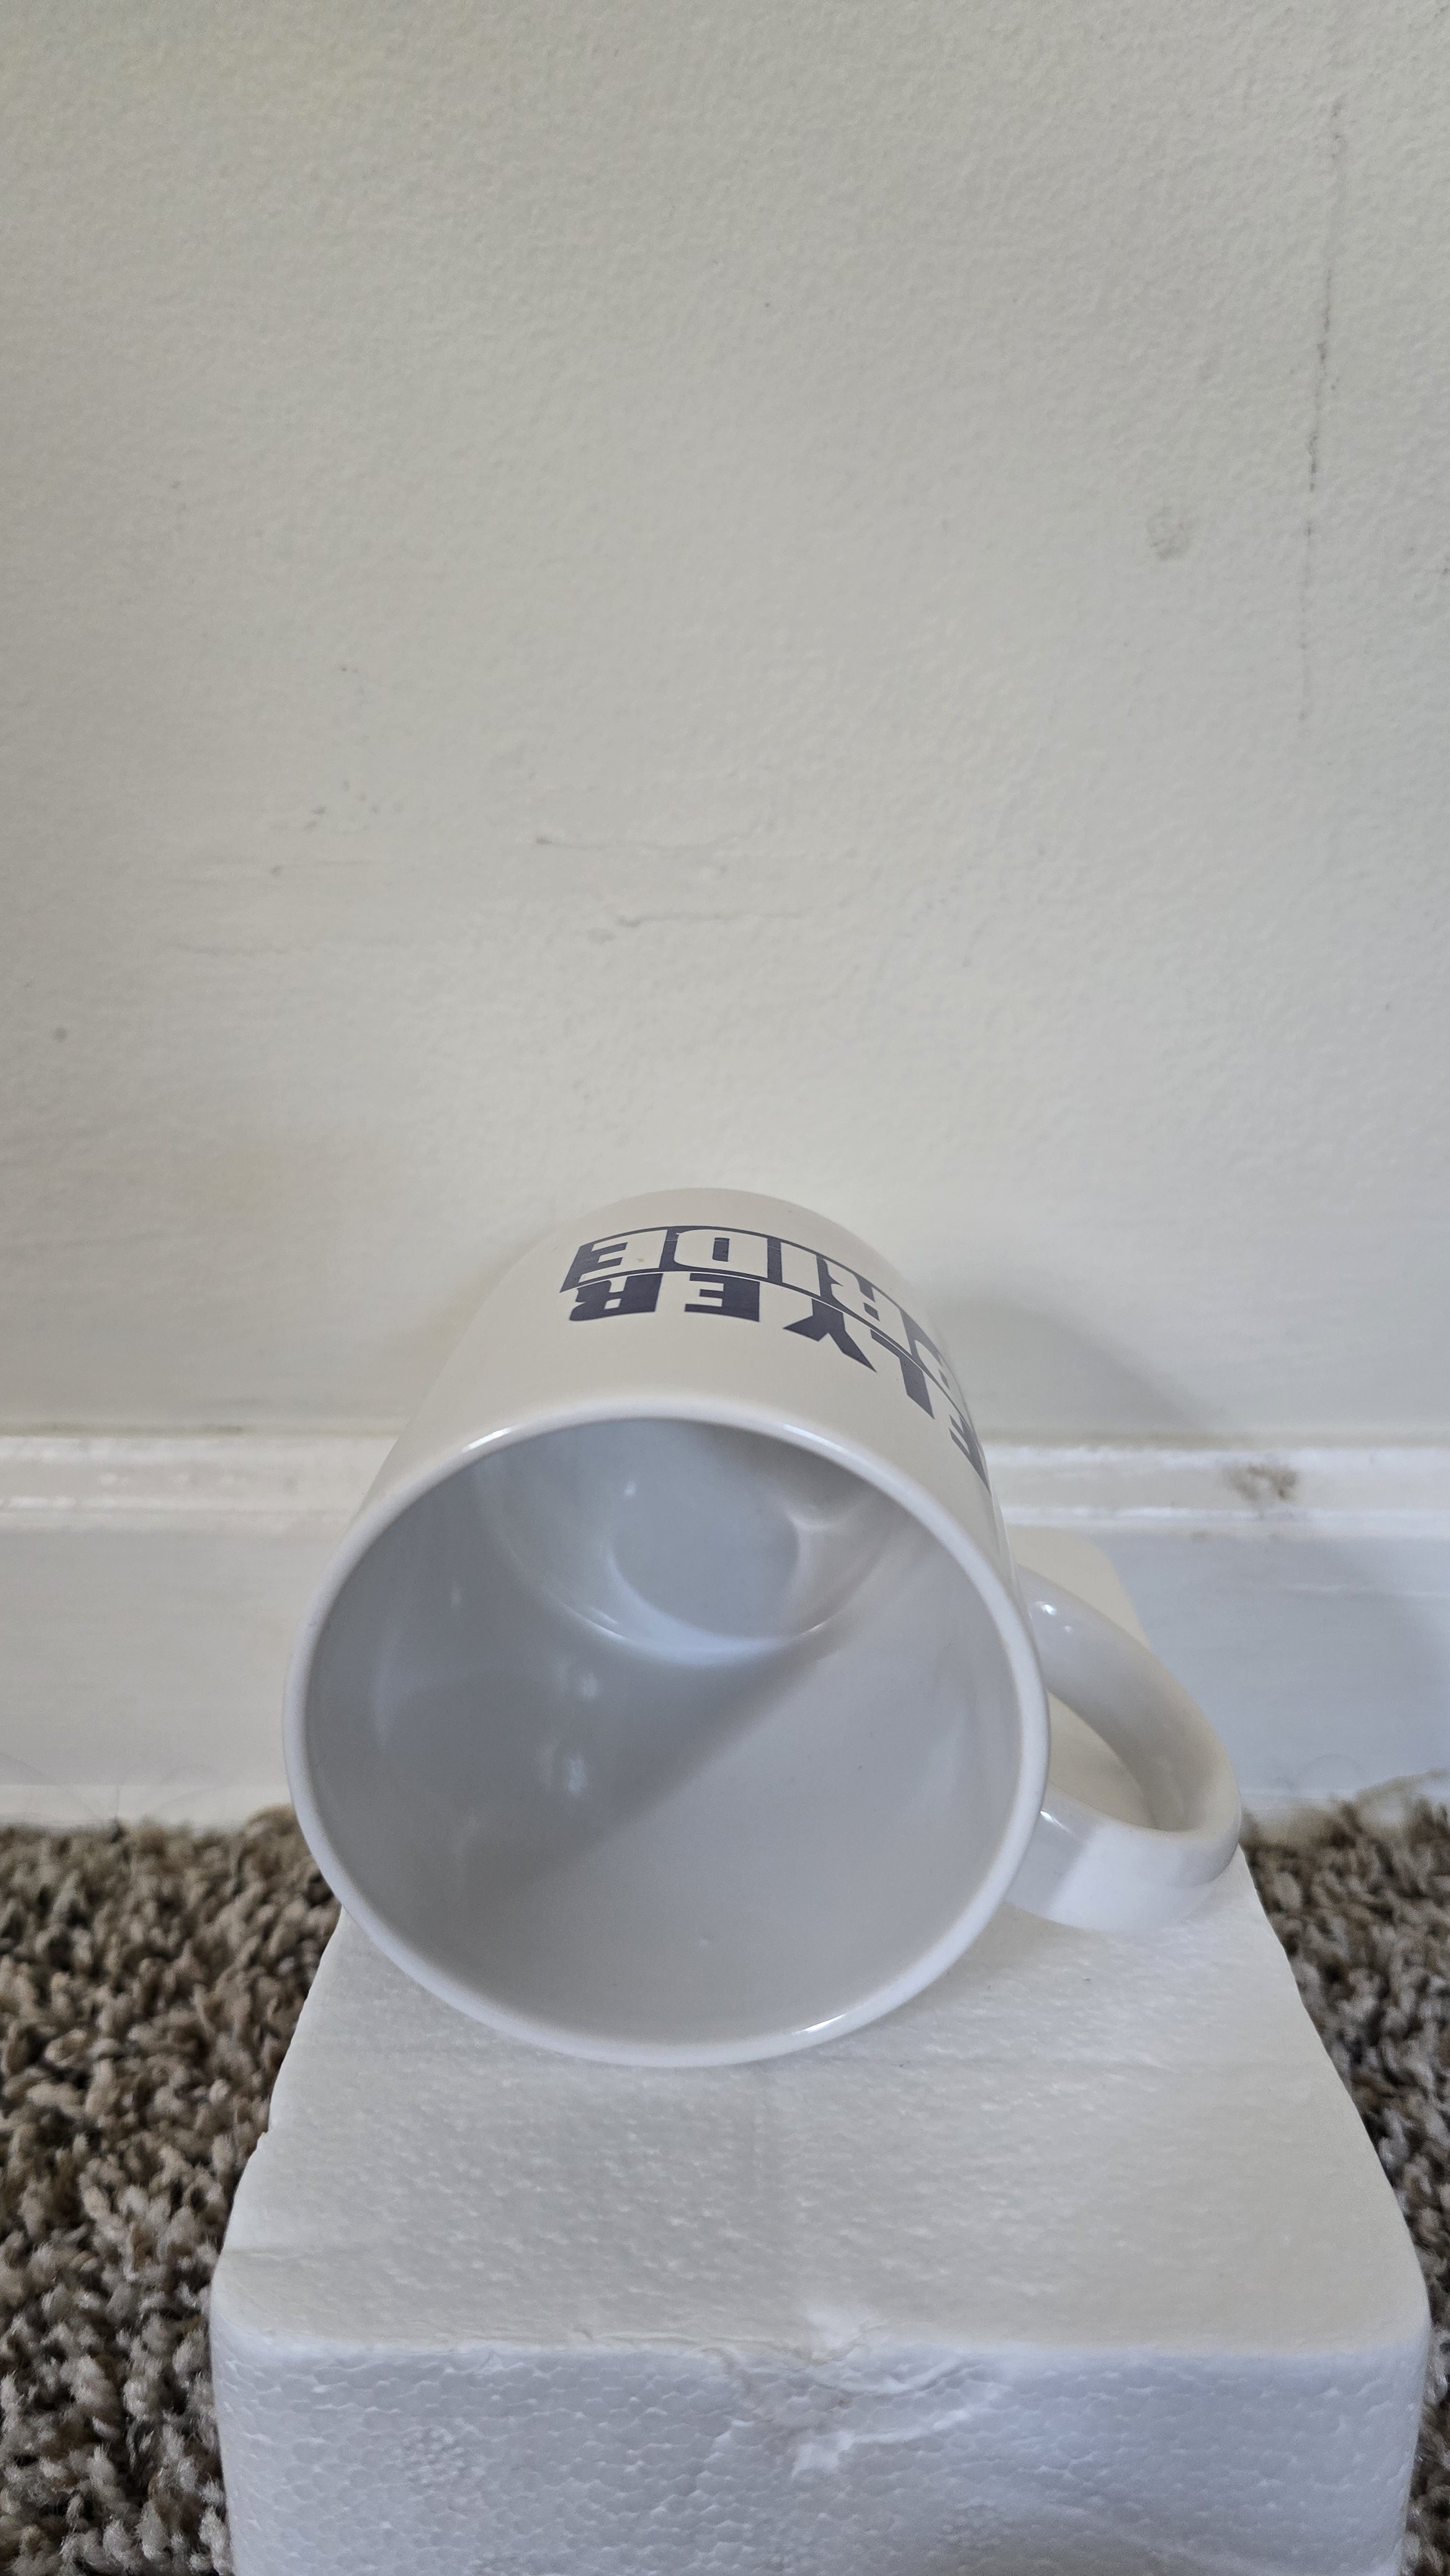mug: (251, 1092, 1287, 2100)
